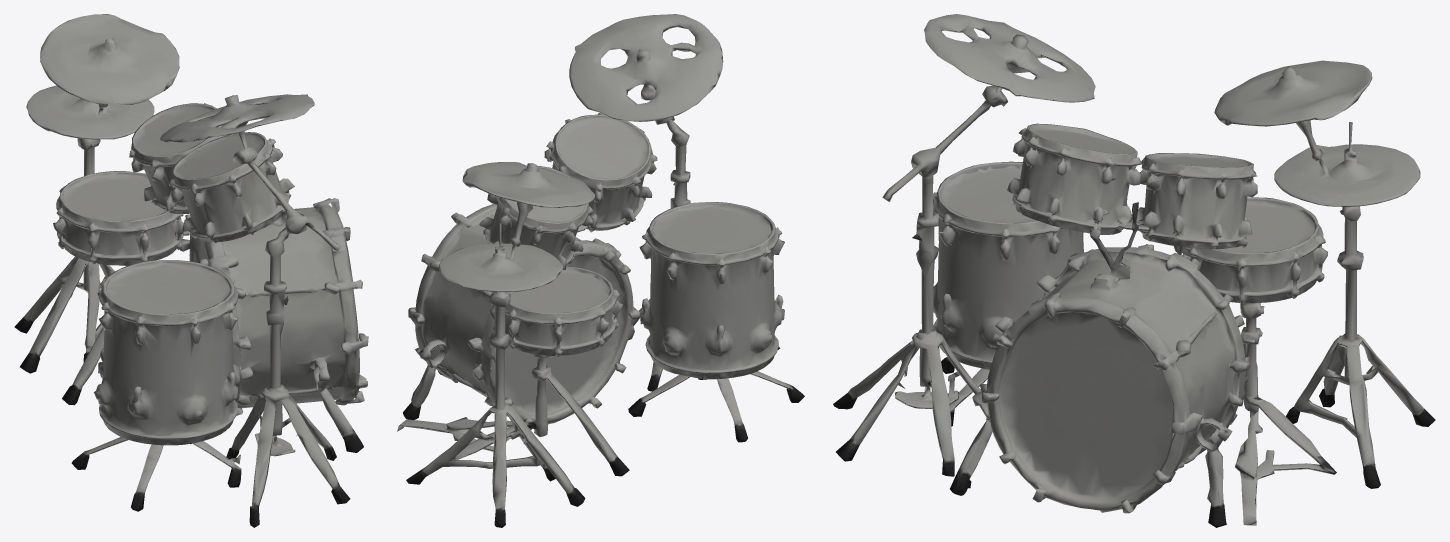
Rendered from drums.glb.
3 renders of one model, left to right at view 1: azimuth 30°, elevation 25°; view 2: azimuth 150°, elevation 25°; view 3: azimuth 270°, elevation 25°, orthographic. The views are drawn at different scales.
Parts seen in each view (by area): view 1: tripo_node_8bdb86ff-a486-41fc-a7ae-6e70b4596c34; view 2: tripo_node_8bdb86ff-a486-41fc-a7ae-6e70b4596c34; view 3: tripo_node_8bdb86ff-a486-41fc-a7ae-6e70b4596c34.
Boxes of the visible parts, left/top/right/bottom form: tripo_node_8bdb86ff-a486-41fc-a7ae-6e70b4596c34: left=14, top=14, right=368, bottom=527; tripo_node_8bdb86ff-a486-41fc-a7ae-6e70b4596c34: left=397, top=14, right=804, bottom=527; tripo_node_8bdb86ff-a486-41fc-a7ae-6e70b4596c34: left=833, top=14, right=1435, bottom=527.
Bounding box in the file's own units: 0.6688 × 0.7568 × 1.
Materials: 1 (1 with a texture image).
